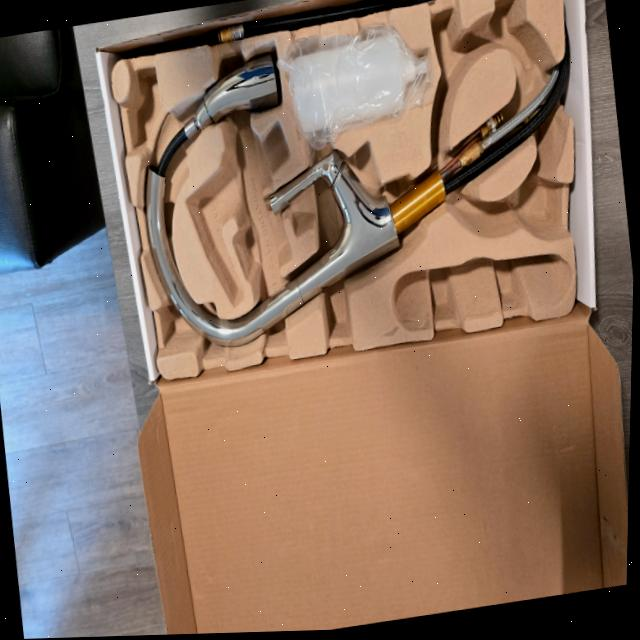1: (141, 55, 569, 349)
2m: (185, 126, 288, 305)
3: (286, 25, 429, 137)
4m: (392, 257, 569, 335)
5m: (509, 177, 558, 236)
6m: (492, 0, 541, 70)
7m: (432, 9, 471, 88)
